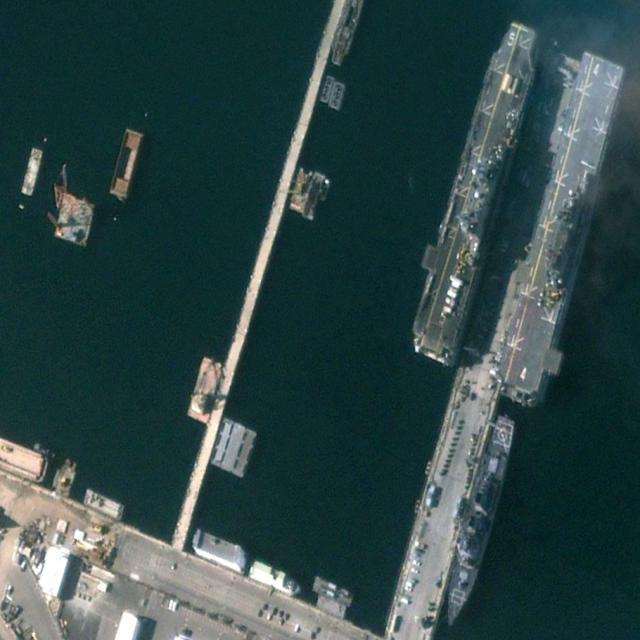Destroyer: (435, 411, 522, 632)
Landing: (398, 12, 554, 369), (490, 50, 640, 415)
